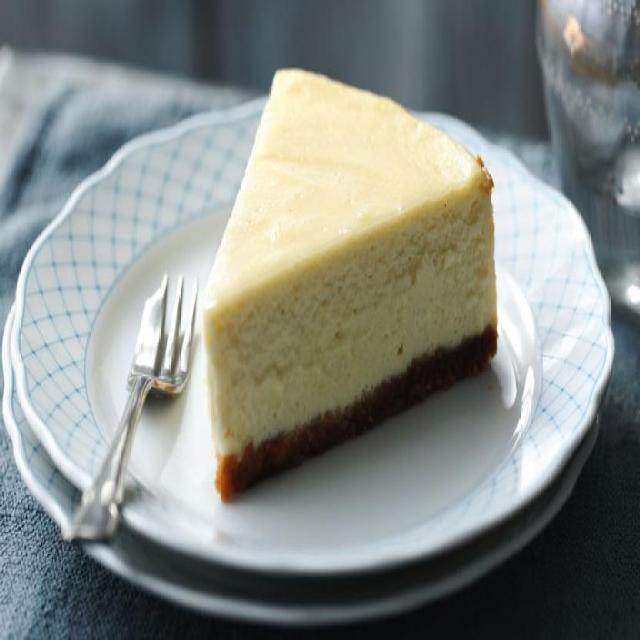Wet Waste: (202, 50, 506, 473)
